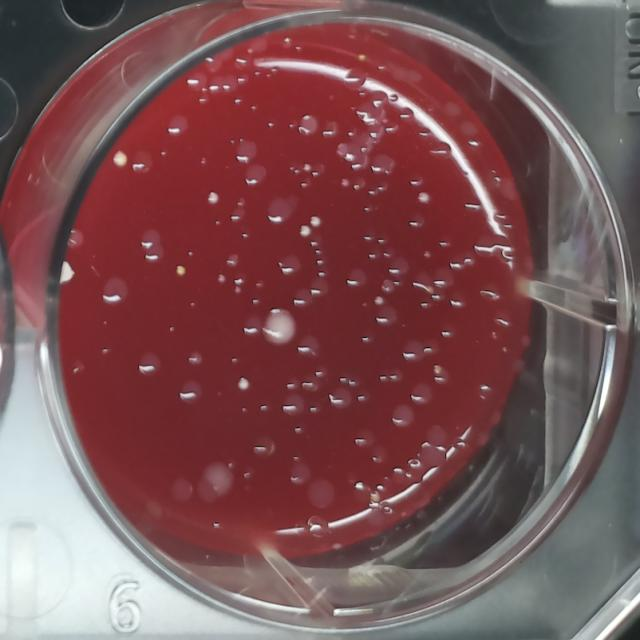Staphylococcus: (56, 258, 77, 286), (109, 146, 130, 170), (235, 376, 251, 392), (206, 189, 220, 207), (416, 190, 431, 206), (309, 213, 322, 229), (174, 262, 188, 276), (299, 223, 312, 238), (374, 294, 385, 306)
